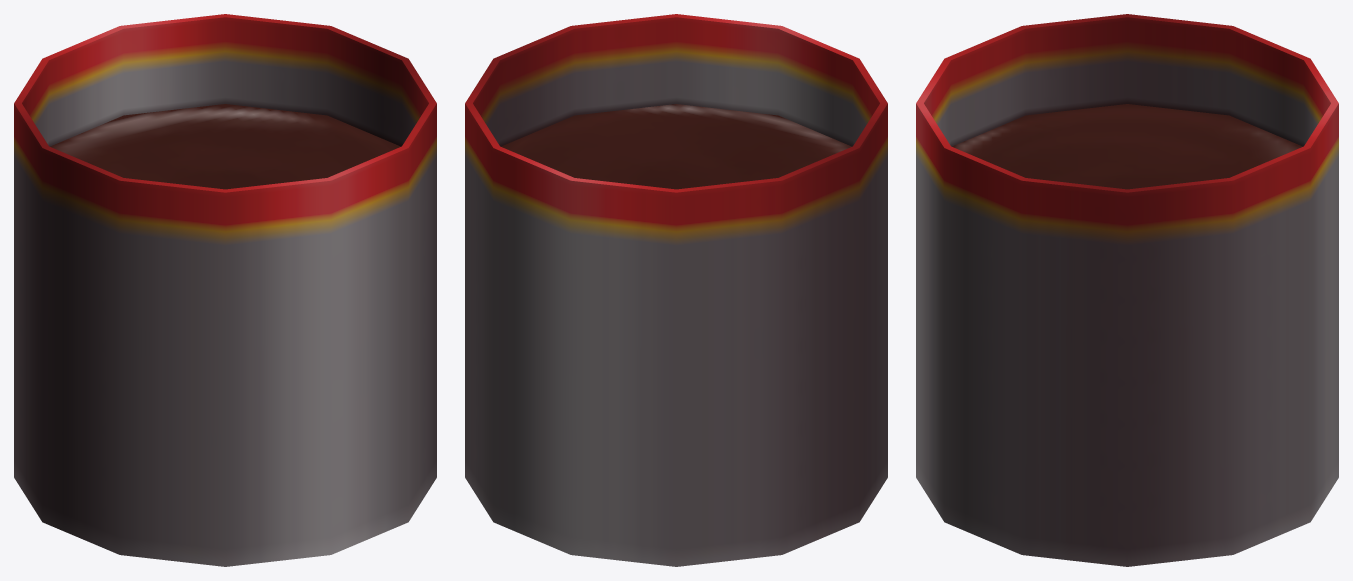
Rendered from jsf_Ingredient_Source_01.fbx.
3 views of the same model, side by side, from view 1: azimuth 30°, elevation 25°; view 2: azimuth 150°, elevation 25°; view 3: azimuth 270°, elevation 25° (orthographic).
Visible parts, largest first — view 1: jsf_Ingredient_Source_01; view 2: jsf_Ingredient_Source_01; view 3: jsf_Ingredient_Source_01.
Boxes of the visible parts, x1,y1,x2,y2 form: jsf_Ingredient_Source_01: [14, 14, 436, 566]; jsf_Ingredient_Source_01: [465, 14, 887, 566]; jsf_Ingredient_Source_01: [916, 14, 1338, 566].
Size of the model in its own units: 12.71 by 12.41 by 12.71.
